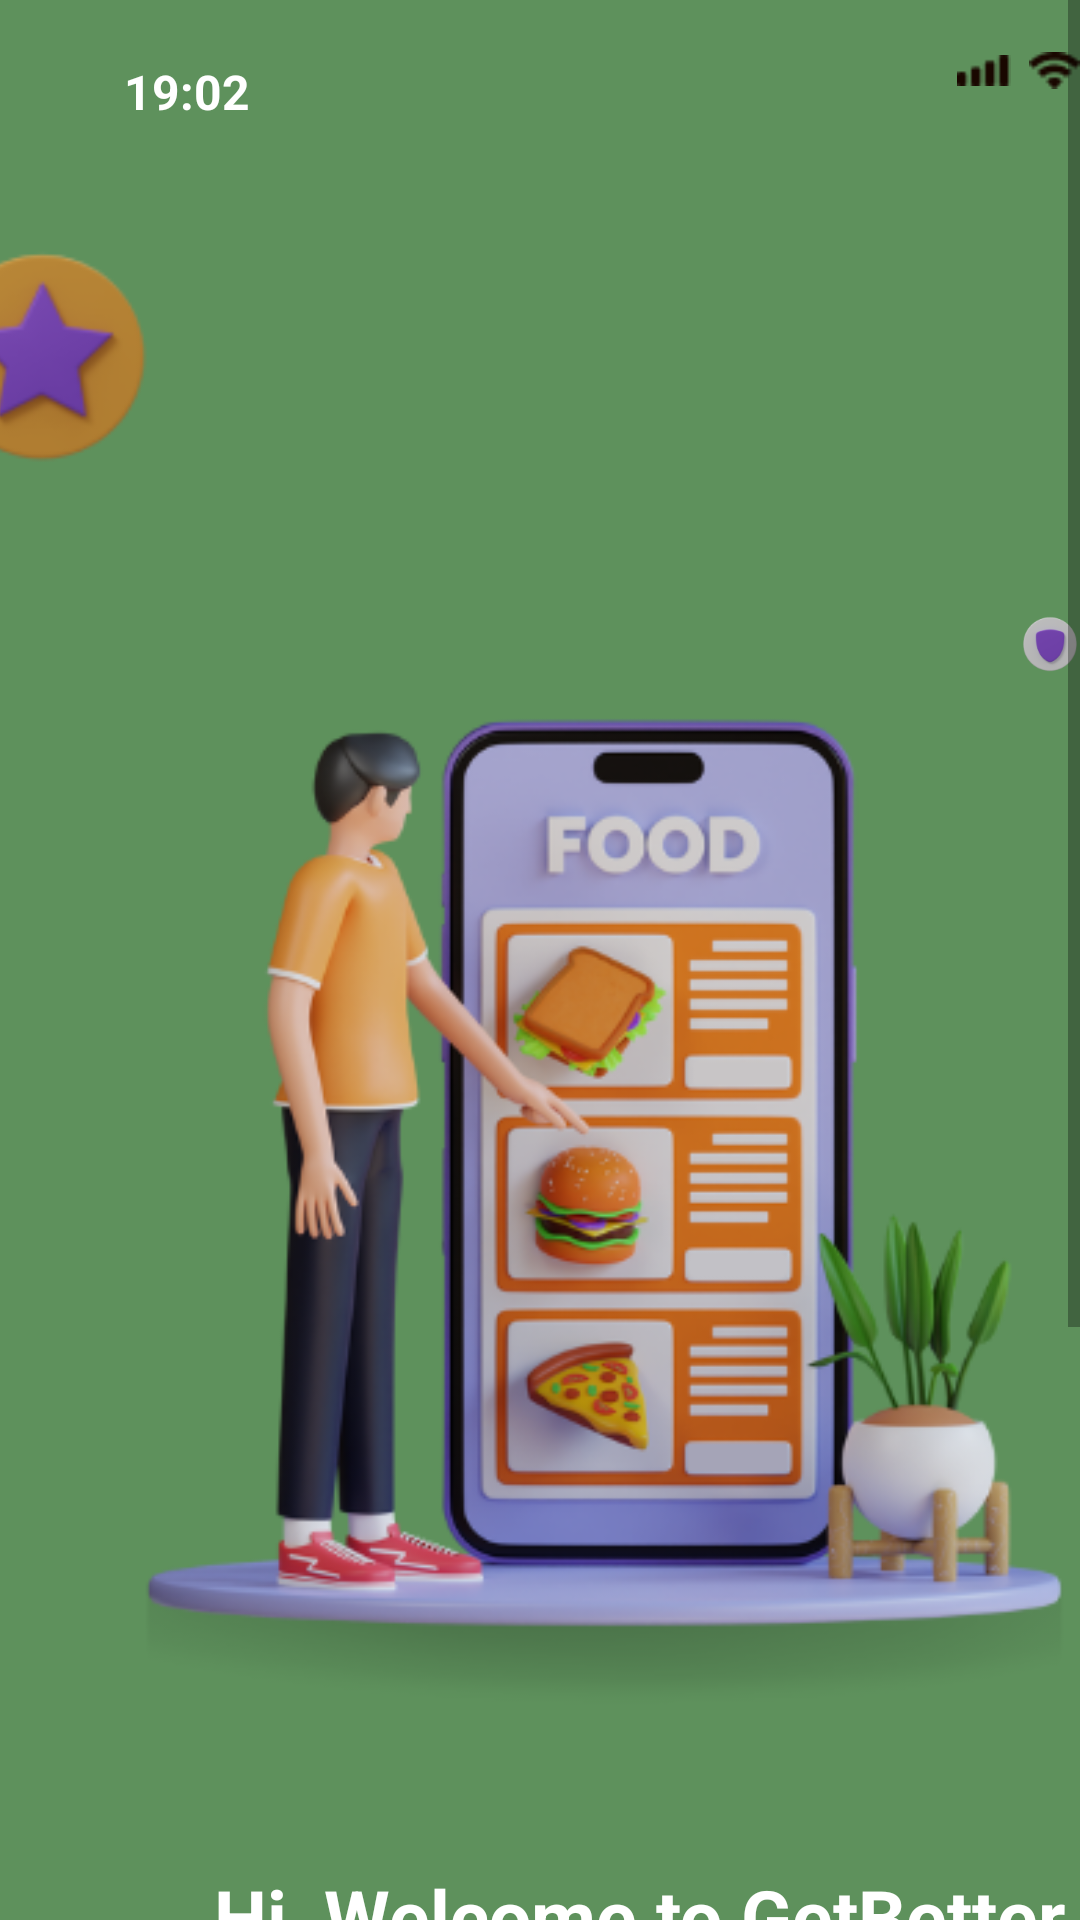

Icon bounding boxes for this 1080px x 1920px phone screenshot, format Rect(x1, y1, x2, y2):
reception: Rect(957, 55, 1009, 86)
wifi: Rect(1029, 51, 1080, 90)
